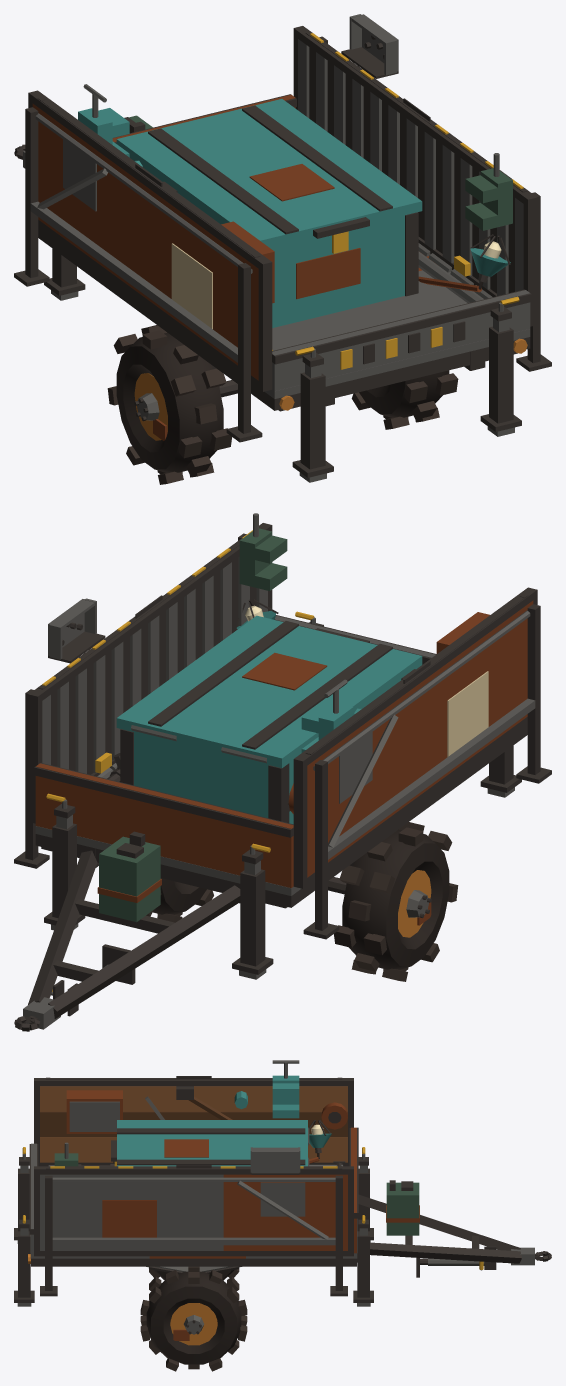
File: cart.glb
3 views of the same model, one above another, from view 1: azimuth 30°, elevation 25°; view 2: azimuth 150°, elevation 25°; view 3: azimuth 270°, elevation 25° (orthographic). The views are drawn at different scales.
Parts seen in each view (by area): view 1: body, side_l, lid, side_r, wheel_l, leg_l, leaf_r, wheel_r, legs, lamp_b, leg_r, leaf_l (+1 smaller); view 2: body, side_l, lid, side_r, tongue, wheel_l, leg_l, leaf_r, legs, wheel_r, leg_r, leaf_l; view 3: side_r, side_l, wheel_r, lid, body, leg_r, tongue, leaf_r, legs, leaf_l, lamp_a, stand.
Boxes of the visible parts, x1,y1,x2,y2 form: body: [38, 94, 531, 482]; side_l: [28, 84, 274, 391]; lid: [116, 99, 422, 253]; side_r: [293, 26, 537, 326]; wheel_l: [107, 325, 231, 484]; leg_l: [14, 107, 262, 442]; leaf_r: [305, 14, 527, 192]; wheel_r: [351, 370, 458, 429]; legs: [44, 278, 521, 477]; lamp_b: [418, 234, 510, 292]; leg_r: [319, 36, 551, 371]; leaf_l: [37, 97, 260, 257]; body: [34, 615, 527, 979]; side_l: [288, 587, 537, 888]; lid: [116, 615, 422, 768]; side_r: [28, 513, 287, 823]; tongue: [14, 831, 240, 1031]; wheel_l: [334, 822, 458, 981]; leg_l: [303, 604, 551, 939]; leaf_r: [38, 530, 252, 689]; legs: [44, 611, 521, 974]; wheel_r: [146, 878, 213, 922]; leg_r: [14, 533, 246, 868]; leaf_l: [305, 594, 528, 754]; side_r: [34, 1142, 353, 1256]; side_l: [34, 1060, 353, 1166]; wheel_r: [140, 1266, 247, 1371]; lid: [111, 1120, 309, 1166]; body: [17, 1127, 370, 1306]; leg_r: [40, 1175, 347, 1296]; tongue: [358, 1180, 551, 1269]; leaf_r: [45, 1147, 342, 1174]; legs: [14, 1147, 373, 1302]; leaf_l: [45, 1076, 342, 1079]; lamp_a: [113, 1120, 331, 1163]; stand: [416, 1257, 484, 1277].
Size of the model in its own units: 1.67 by 1.71 by 3.63.
